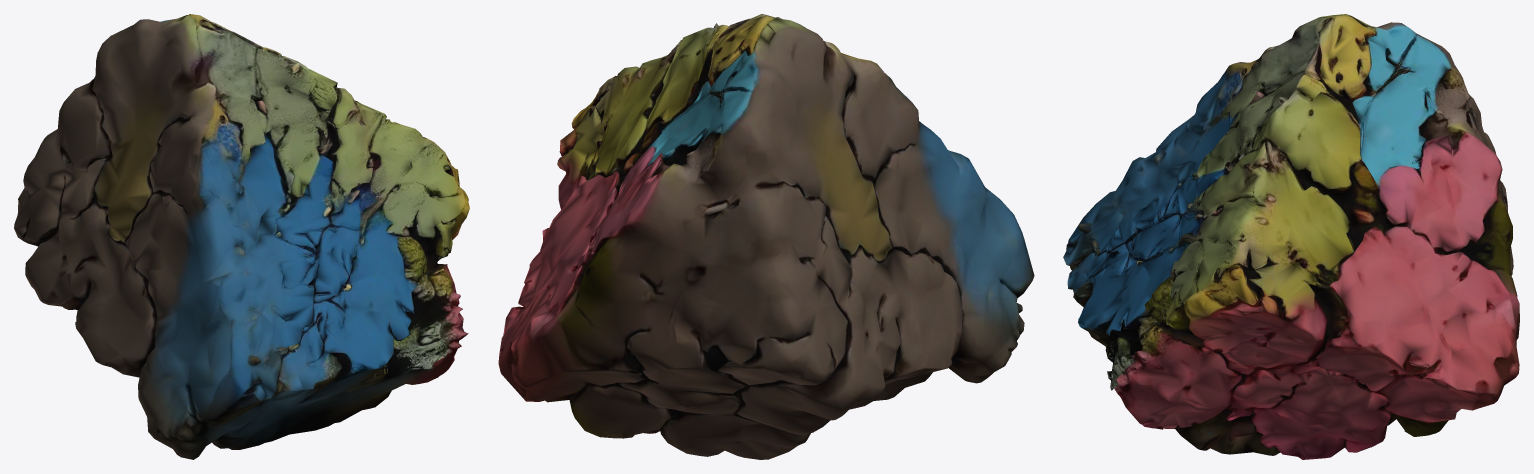
The model's file is rock_f.glb.
The picture shows the model from 3 angles, left to right: view 1: azimuth 30°, elevation 25°; view 2: azimuth 150°, elevation 25°; view 3: azimuth 270°, elevation 25°; orthographic projection. The views are drawn at different scales.
Parts seen in each view (by area): view 1: tripo_node_363a89b4; view 2: tripo_node_363a89b4; view 3: tripo_node_363a89b4.
Part boxes in pixels (x1,y1,x2,y2): tripo_node_363a89b4: (14,14,469,459); tripo_node_363a89b4: (498,14,1034,459); tripo_node_363a89b4: (1063,14,1519,459).
Size of the model in its own units: 0.8733 by 0.9438 by 0.9777.
Materials: 1 (1 with a texture image).
